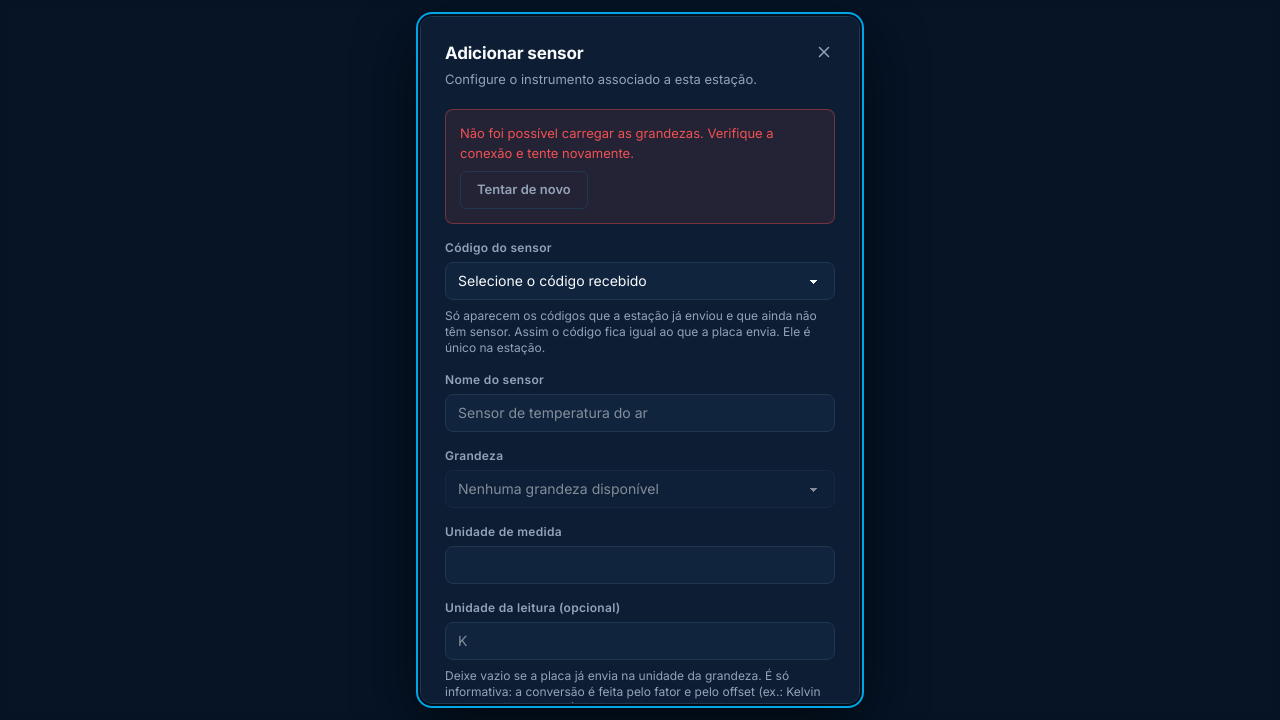
it: SensorCreateModal: catálogo de grandezas (US-39) › quando o catálogo não carrega › avisa, mantém o cadastro bloqueado e carrega ao tentar de novo
The image size is (1280, 720).
Expected: the message shows "Não foi possível carregar as grandezas", [460,125,774,160]
Expected: the dropdown labelled "Grandeza" is disabled, [445,470,835,508]
Click the button "Tentar de novo": coordinates (524, 190) [460,171,588,208]
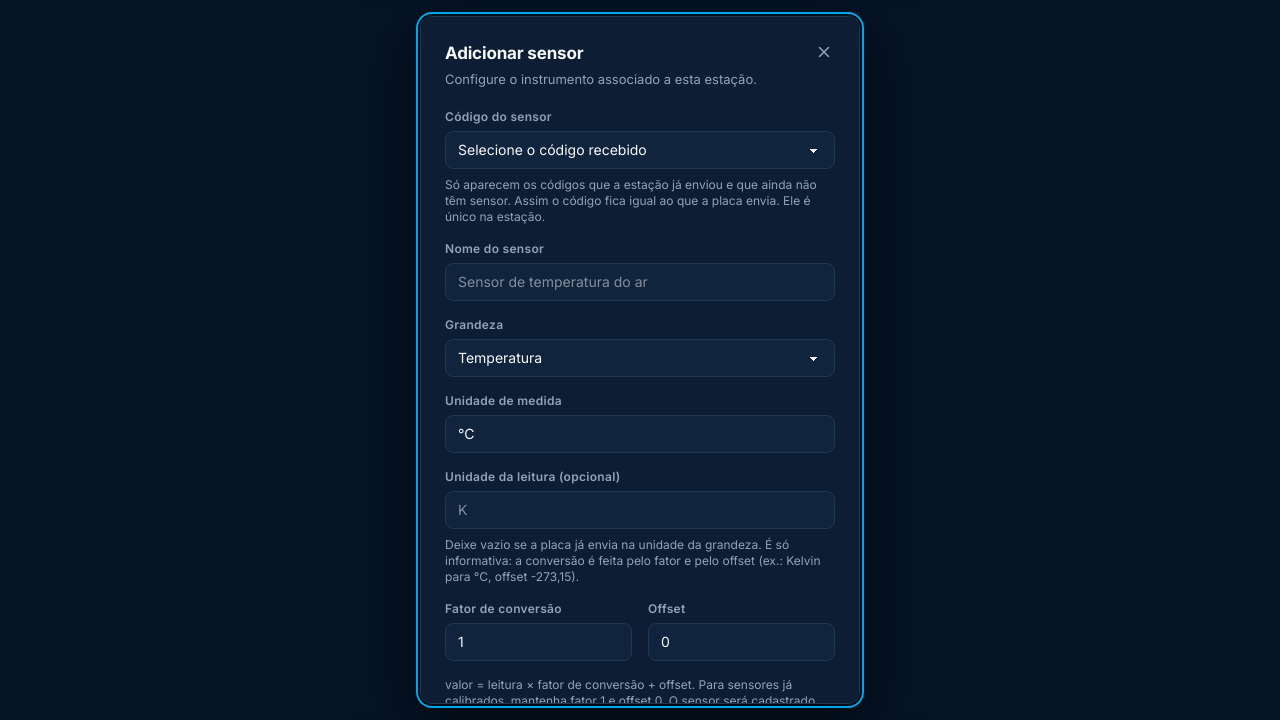
Result: the dropdown labelled "Grandeza" is enabled at [445,339,835,377]
Result: the message is gone
Result: the dropdown labelled "Grandeza" shows "Temperatura" at [445,339,835,377]
